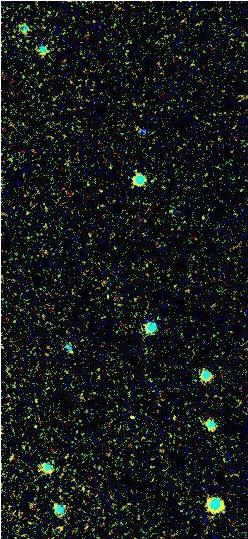star: (111, 409, 141, 439)
